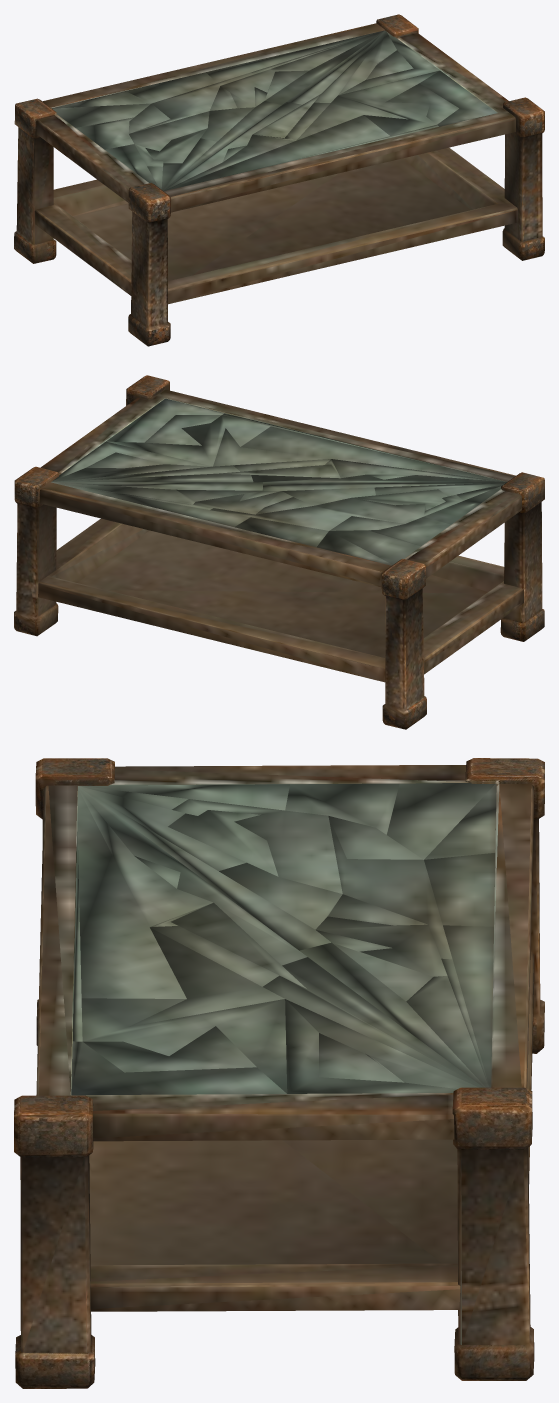
The model's file is Glass Table.fbx.
The picture shows the model from 3 angles, top to bottom: view 1: azimuth 30°, elevation 25°; view 2: azimuth 150°, elevation 25°; view 3: azimuth 270°, elevation 25°; orthographic projection. The views are drawn at different scales.
Visible parts, largest first — view 1: tripo_node_9292c7ad.042, tripo_node_9292c7ad.044, tripo_node_9292c7ad.040, tripo_node_9292c7ad.041, tripo_node_9292c7ad.010, tripo_node_9292c7ad.009, tripo_node_9292c7ad.002, tripo_node_9292c7ad.005, tripo_node_9292c7ad.004, tripo_node_9292c7ad.029, tripo_node_9292c7ad.006, tripo_node_9292c7ad.032 (+7 smaller); view 2: tripo_node_9292c7ad.042, tripo_node_9292c7ad.044, tripo_node_9292c7ad.041, tripo_node_9292c7ad.040, tripo_node_9292c7ad.010, tripo_node_9292c7ad.009, tripo_node_9292c7ad.002, tripo_node_9292c7ad.005, tripo_node_9292c7ad.004, tripo_node_9292c7ad.029, tripo_node_9292c7ad.006, tripo_node_9292c7ad.032 (+7 smaller); view 3: tripo_node_9292c7ad.042, tripo_node_9292c7ad.044, tripo_node_9292c7ad.010, tripo_node_9292c7ad.009, tripo_node_9292c7ad.002, tripo_node_9292c7ad.004, tripo_node_9292c7ad.041, tripo_node_9292c7ad.005, tripo_node_9292c7ad.029, tripo_node_9292c7ad.006, tripo_node_9292c7ad.032, tripo_node_9292c7ad.011 (+9 smaller).
Part boxes in pixels (x1,y1,x2,y2): tripo_node_9292c7ad.042: (36,14,544,260); tripo_node_9292c7ad.044: (34,147,517,304); tripo_node_9292c7ad.040: (128,182,170,346); tripo_node_9292c7ad.041: (14,98,56,263); tripo_node_9292c7ad.010: (129,111,209,166); tripo_node_9292c7ad.009: (131,72,253,133); tripo_node_9292c7ad.002: (52,103,150,127); tripo_node_9292c7ad.005: (206,30,383,82); tripo_node_9292c7ad.004: (126,72,216,103); tripo_node_9292c7ad.029: (265,31,383,104); tripo_node_9292c7ad.006: (76,117,133,149); tripo_node_9292c7ad.032: (221,69,274,108); tripo_node_9292c7ad.042: (14,375,521,636); tripo_node_9292c7ad.044: (38,518,523,682); tripo_node_9292c7ad.041: (381,559,426,729); tripo_node_9292c7ad.040: (500,472,544,641); tripo_node_9292c7ad.010: (314,494,463,523); tripo_node_9292c7ad.009: (210,506,401,530); tripo_node_9292c7ad.002: (330,530,420,564); tripo_node_9292c7ad.005: (54,483,249,527); tripo_node_9292c7ad.004: (235,517,328,547); tripo_node_9292c7ad.029: (54,482,262,490); tripo_node_9292c7ad.006: (368,517,450,546); tripo_node_9292c7ad.032: (193,491,292,514); tripo_node_9292c7ad.042: (14,765,534,1388); tripo_node_9292c7ad.044: (89,951,534,1311); tripo_node_9292c7ad.010: (172,799,342,893); tripo_node_9292c7ad.009: (328,816,452,959); tripo_node_9292c7ad.002: (386,783,494,859); tripo_node_9292c7ad.004: (424,853,495,926); tripo_node_9292c7ad.041: (465,758,544,1053); tripo_node_9292c7ad.005: (443,925,493,1087); tripo_node_9292c7ad.029: (299,942,485,1087); tripo_node_9292c7ad.006: (285,783,399,834); tripo_node_9292c7ad.032: (315,916,447,976); tripo_node_9292c7ad.011: (168,810,278,876).
Size of the model in its own units: 96.92 by 34.81 by 60.3.
